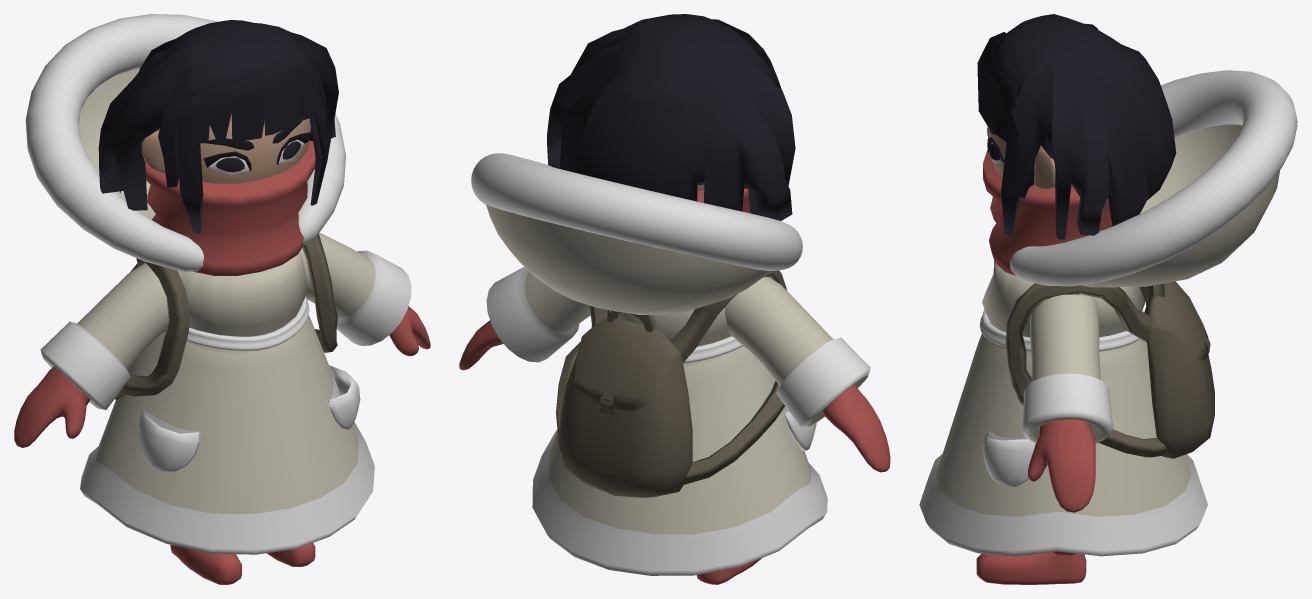
The model's file is Character_Girl_01.fbx.
3 views of the same model, side by side, from view 1: azimuth 30°, elevation 25°; view 2: azimuth 150°, elevation 25°; view 3: azimuth 270°, elevation 25° (orthographic). The views are drawn at different scales.
Parts seen in each view (by area): view 1: polySurface47; view 2: polySurface47; view 3: polySurface47.
Boxes of the visible parts, x1=… form: polySurface47: x1=14, y1=14, x2=430, y2=584; polySurface47: x1=459, y1=14, x2=890, y2=584; polySurface47: x1=919, y1=14, x2=1297, y2=584.
Bounding box in the file's own units: 0.9576 × 1.16 × 0.7465.
